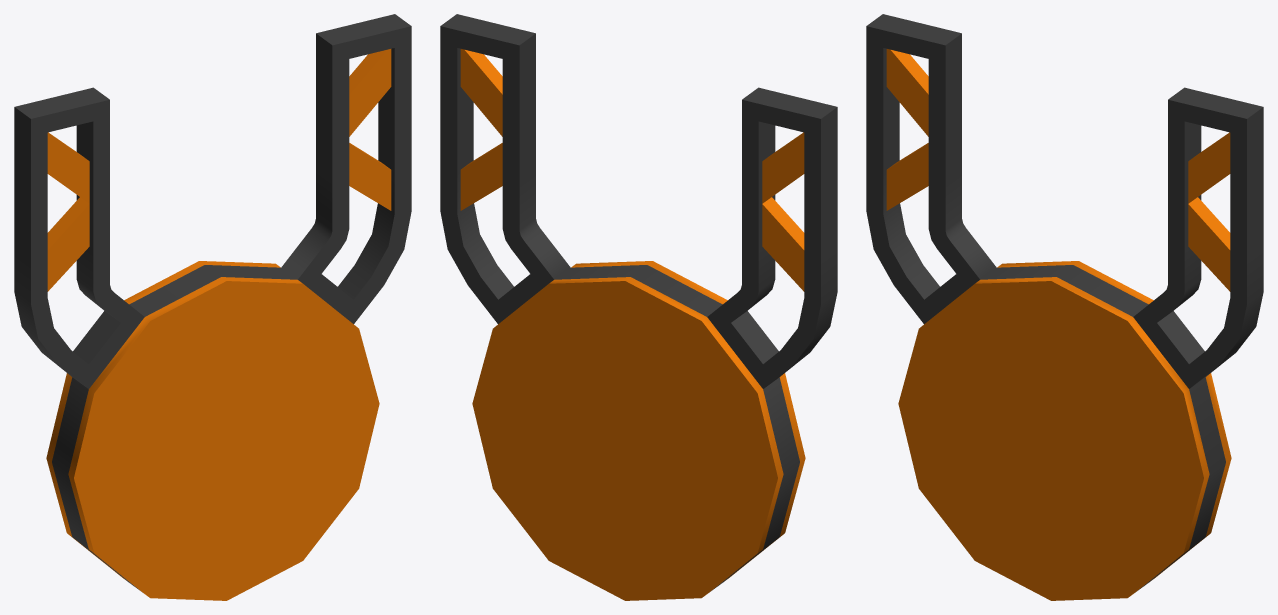
The model's file is Pipe_Connector_1.fbx.
3 views of the same model, side by side, from view 1: azimuth 30°, elevation 25°; view 2: azimuth 150°, elevation 25°; view 3: azimuth 330°, elevation 25° (orthographic).
Parts seen in each view (by area): view 1: Cylinder.002; view 2: Cylinder.002; view 3: Cylinder.002.
Part boxes in pixels (x1,y1,x2,y2): Cylinder.002: [14, 14, 411, 600]; Cylinder.002: [440, 14, 837, 600]; Cylinder.002: [866, 14, 1263, 600].
Size of the model in its own units: 83.73 by 110 by 10.47.
